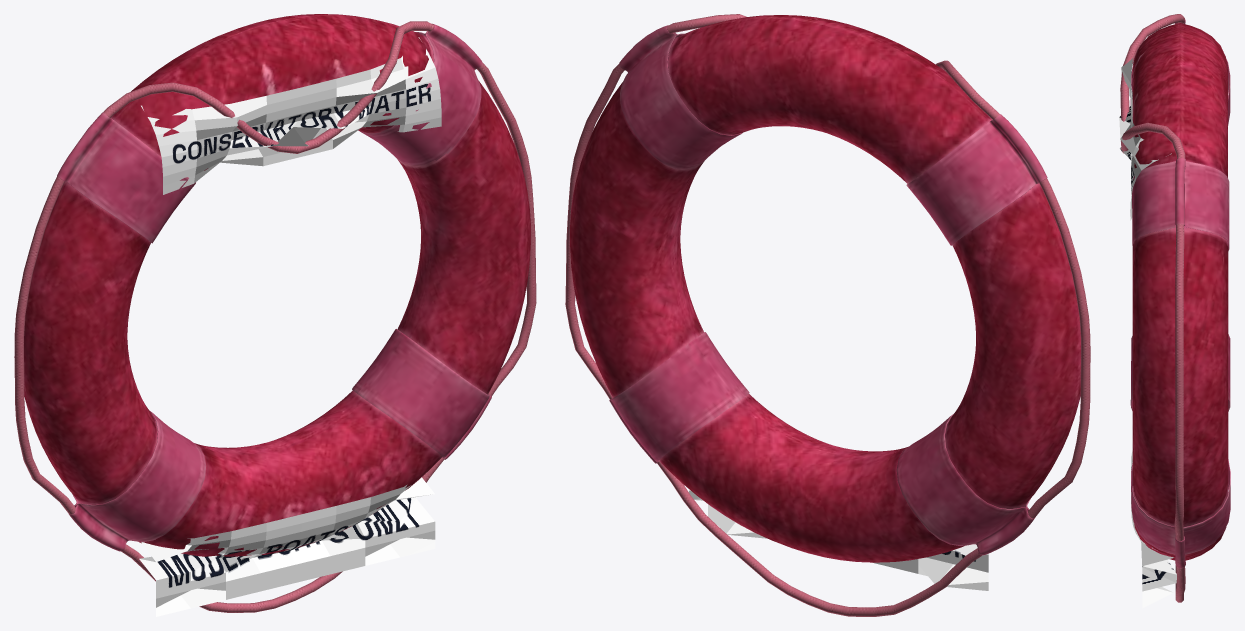
File: nyb_stuart_buoy.glb
3 renders of one model, left to right at view 1: azimuth 30°, elevation 25°; view 2: azimuth 150°, elevation 25°; view 3: azimuth 270°, elevation 25°, orthographic. The views are drawn at different scales.
Visible parts, largest first — view 1: lifebuoy, stk_lbl_d996769d09.png, stk_lbl_884a018a9f.png; view 2: lifebuoy, stk_lbl_d996769d09.png; view 3: lifebuoy, stk_lbl_d996769d09.png, stk_lbl_884a018a9f.png.
Boxes of the visible parts, <box> form: lifebuoy: <box>14,14,536,612</box>; stk_lbl_d996769d09.png: <box>139,471,435,616</box>; stk_lbl_884a018a9f.png: <box>141,37,441,194</box>; lifebuoy: <box>565,14,1090,616</box>; stk_lbl_d996769d09.png: <box>689,490,988,590</box>; lifebuoy: <box>1120,14,1230,602</box>; stk_lbl_d996769d09.png: <box>1131,451,1176,608</box>; stk_lbl_884a018a9f.png: <box>1119,58,1171,220</box>.
Bounding box in the file's own units: 0.7831 × 0.8412 × 0.1567.
3 materials, 3 textured.
